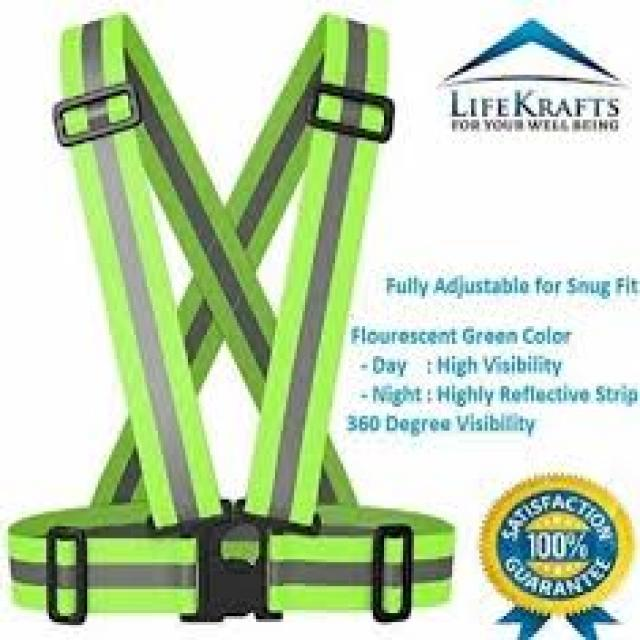Reflective-Jacket: (2, 18, 612, 640)
